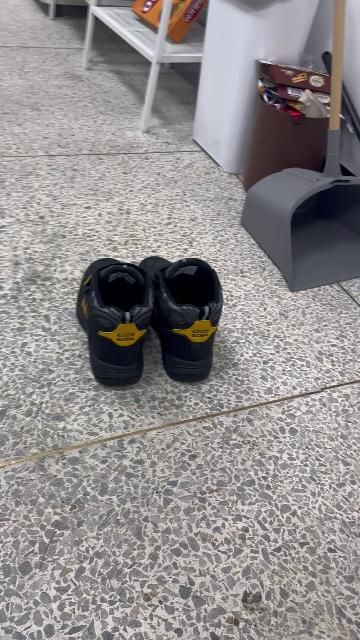shoe_worn: (141, 254, 227, 381), (78, 259, 156, 389)
